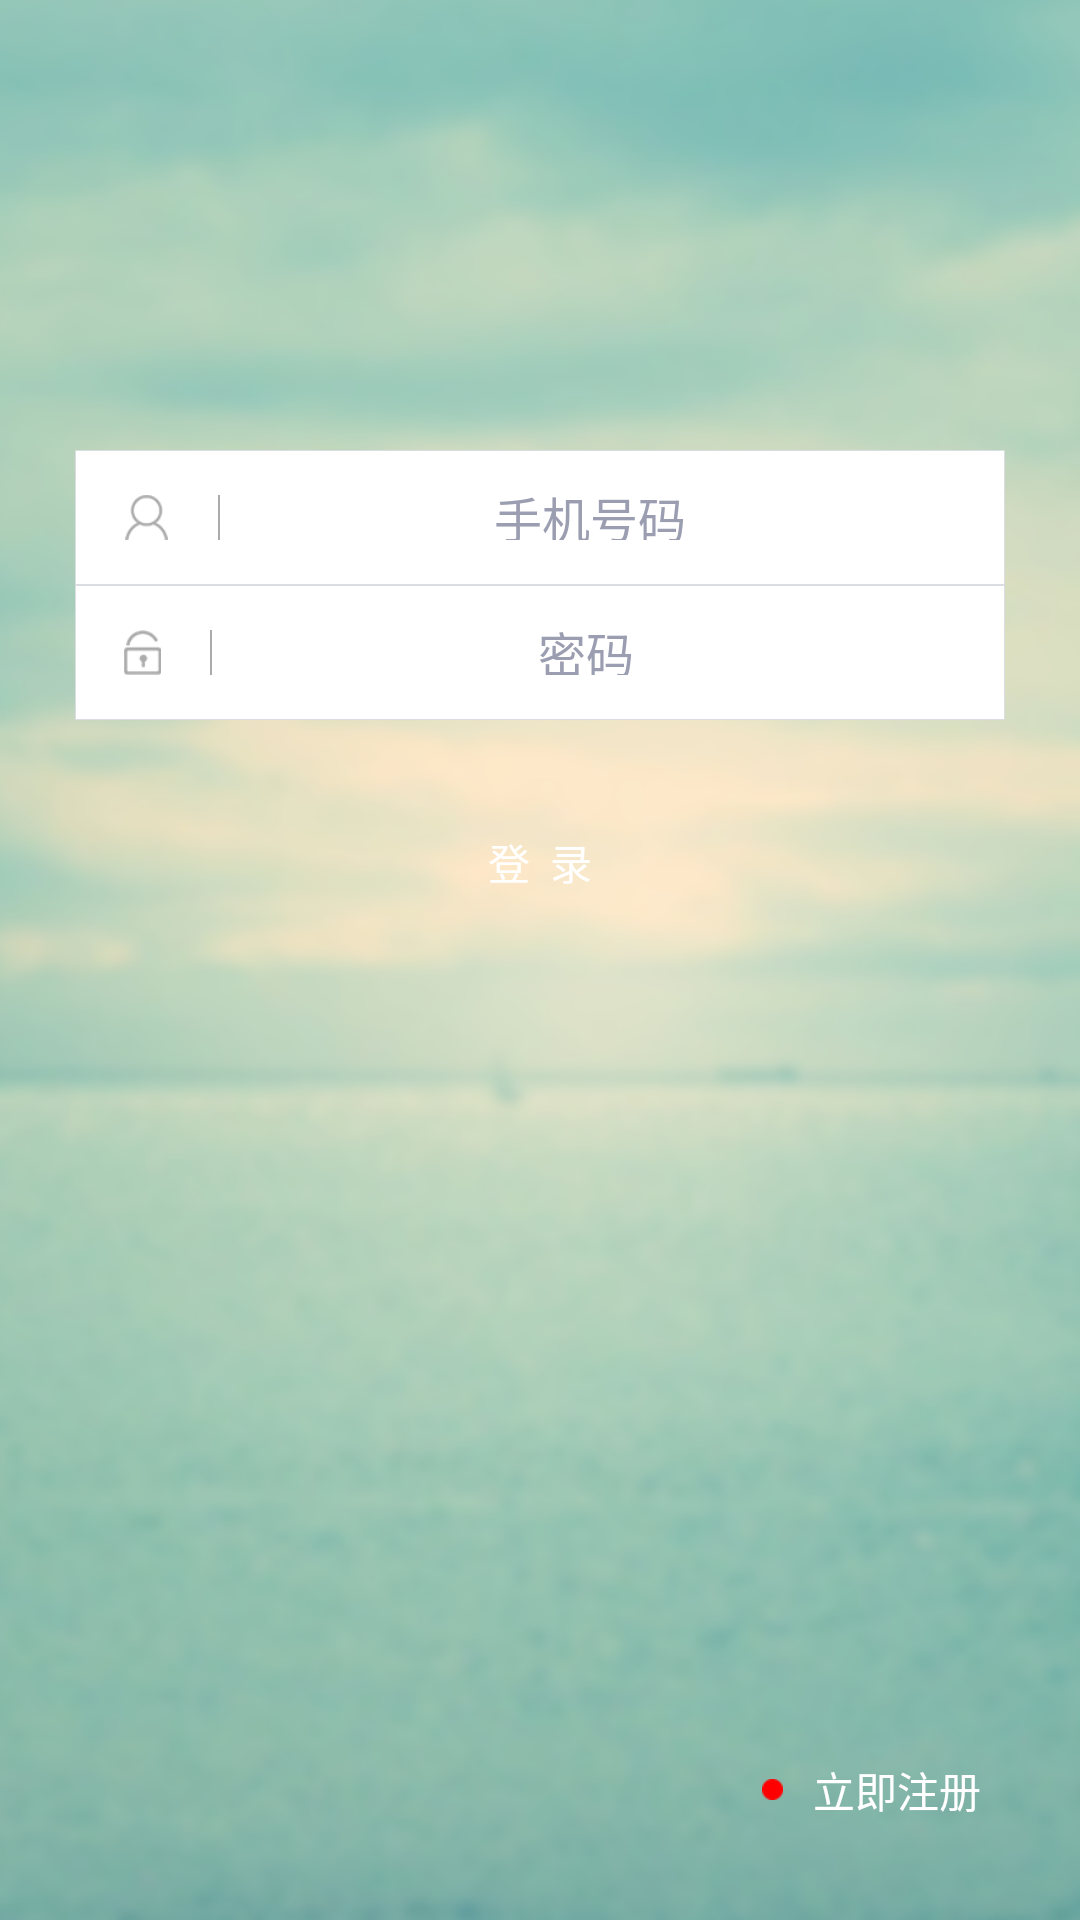

Icons on this 1080x1920 Android screen, each with the point to tap as point (x, y):
login name: point (146, 517)
login pwr: point (142, 652)
